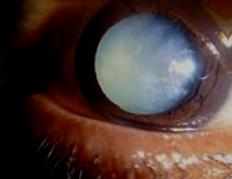eye: (71, 0, 232, 129)
